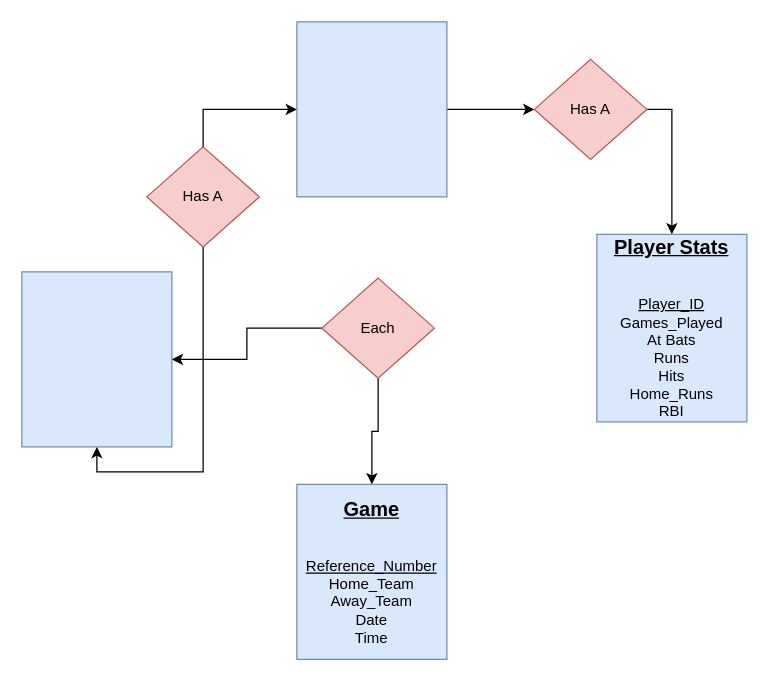
The diagram is 769 pixels wide and 681 high, and some of its shapes have lost their labels. The centre of each missing label's shape, as x and y in pixels:
Player Player_ID Full_Name Age Position: the point at 371,109
Team Team No. Name Coach: the point at 96,359
